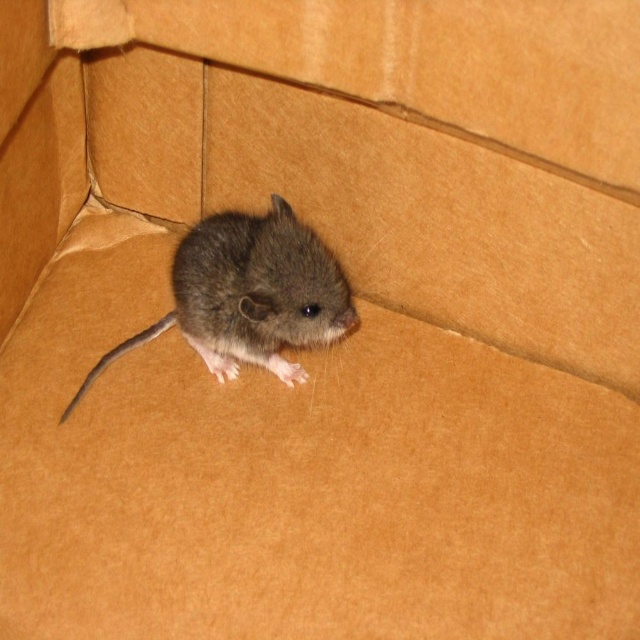Mouse: (57, 193, 406, 428)
